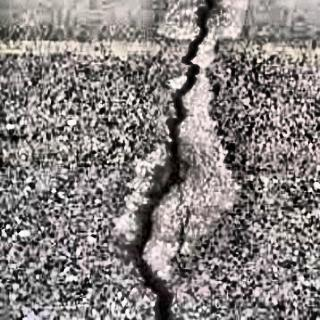crack: (132, 0, 218, 320)
